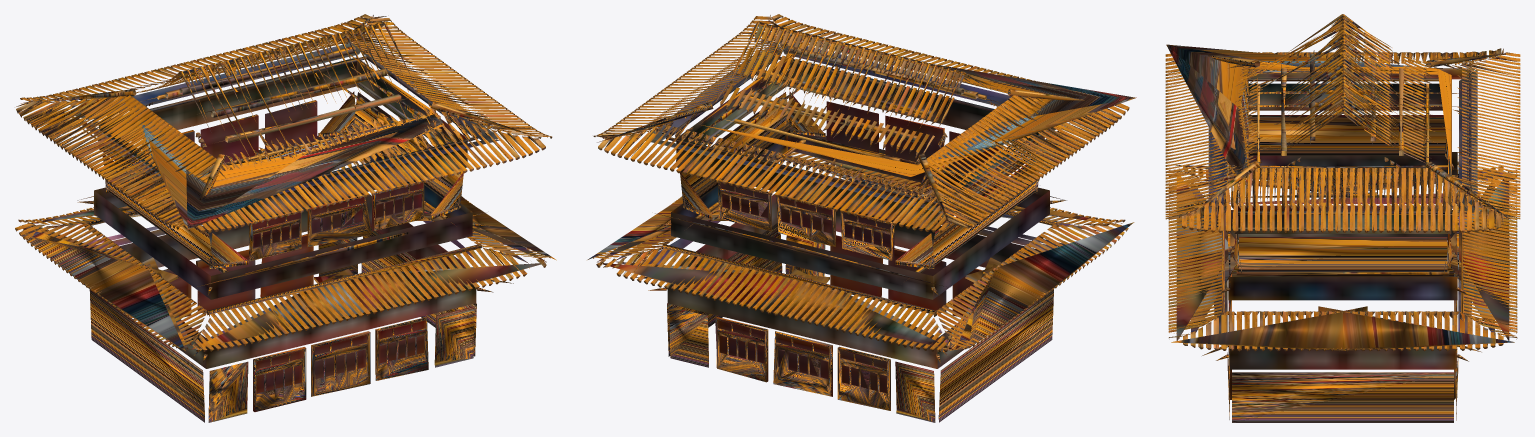
The model's file is bq_drum_tower.lod.glb.
The picture shows the model from 3 angles, left to right: view 1: azimuth 30°, elevation 25°; view 2: azimuth 150°, elevation 25°; view 3: azimuth 270°, elevation 25°; orthographic projection. The views are drawn at different scales.
Bounding box in the file's own units: 1.56 × 1.2 × 1.31.
1 material, 1 textured.
